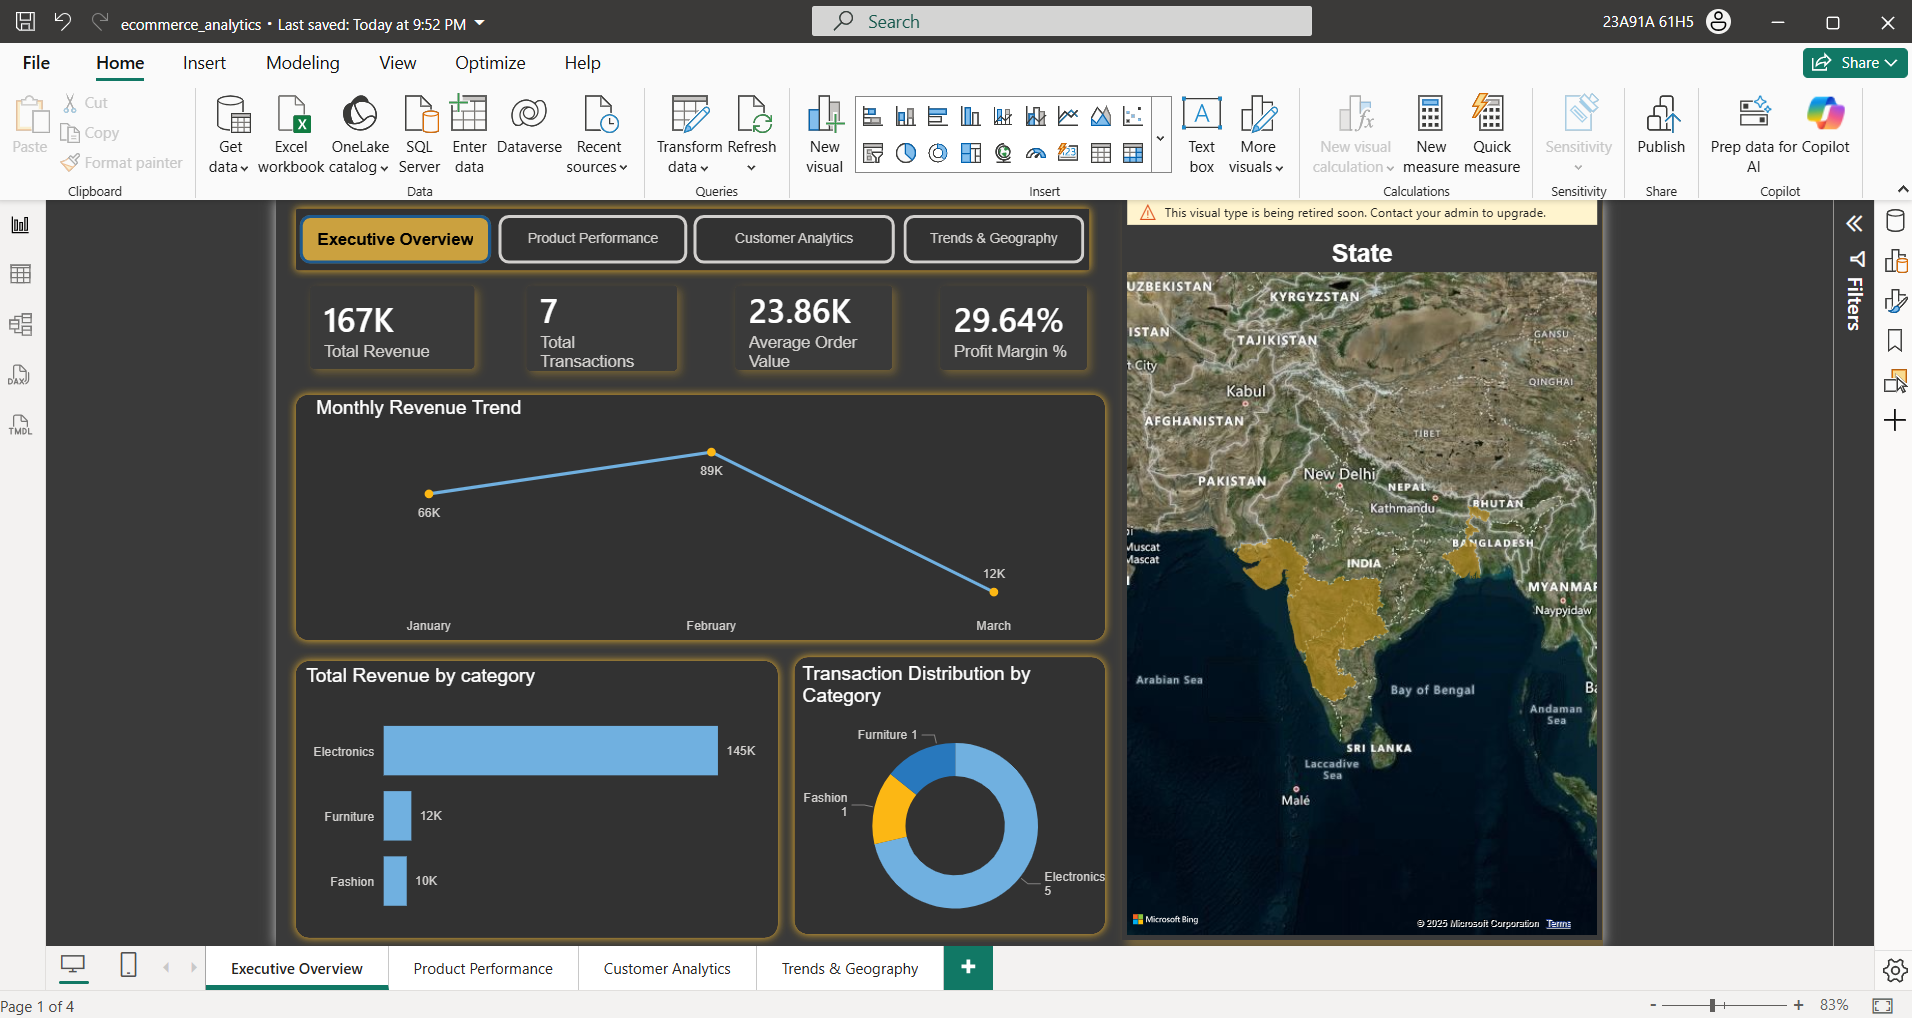

Layout of this report page (visuals, bound fields, positions):
{"tool":"powerbi","page":{"name":"Executive Overview","canvas":[1280,720],"ordinal":0},"visuals":[{"type":"shape","box":[11.2,0,782.5,76.2],"z":0,"group":"g4"},{"type":"cardVisual","fields":{"Data":["Measuress.Total Revenue"]},"box":[0,50,225,147.5],"z":0},{"type":"shape","box":[10.9,436.7,481.7,283.5],"z":0,"group":"g3"},{"type":"actionButton","box":[214.8,14.4,182.2,46.9],"z":1000,"group":"g4"},{"type":"cardVisual","fields":{"Data":["Measuress.Total Transactions"]},"box":[208.7,49.5,212.3,149.6],"z":1000},{"type":"shape","box":[492.2,433.1,316.1,283.5],"z":1000,"group":"g2"},{"type":"actionButton","box":[403.1,14.4,194.3,46.9],"z":2000,"group":"g4"},{"type":"cardVisual","fields":{"Data":["Measuress.Average Order Value"]},"box":[410.2,49.5,218.4,148.4],"z":2000},{"type":"shape","box":[10.9,179.8,797.5,253.4],"z":2000,"group":"g1"},{"type":"actionButton","box":[605.7,14.4,174.6,46.9],"z":3000,"group":"g4"},{"type":"cardVisual","fields":{"Data":["Measuress.Profit Margin %"]},"box":[608,49.5,208.7,148.4],"z":3000},{"type":"filledMap","title":"State","fields":{"Category":["dim_customers.state"]},"box":[816.6,0,463.1,714.2],"z":4000},{"type":"actionButton","box":[23.7,14.7,184.8,46.9],"z":4000,"group":"g4"},{"type":"group","id":"g1","title":"Group 1","box":[10.9,179.8,797.5,253.4],"z":5000},{"type":"group","id":"g2","title":"Group 2","box":[492.2,433.1,316.1,287.1],"z":6000},{"type":"lineChart","title":"Monthly Revenue Trend","fields":{"Category":["dim_date.month_name"],"Y":["Measuress.Total Revenue"]},"box":[34,189.9,773.3,238.3],"z":7000,"group":"g1"},{"type":"group","id":"g3","title":"Group 3","box":[10.9,436.7,481.4,283.5],"z":7000},{"type":"clusteredBarChart","fields":{"Category":["dim_products.category"],"Y":["Measuress.Total Revenue"]},"box":[23.6,448.6,451.4,265.4],"z":8000,"group":"g3"},{"type":"group","id":"g4","title":"Group 4","box":[11.2,0,782.5,76.2],"z":8004},{"type":"donutChart","title":"Transaction Distribution by Category","fields":{"Category":["dim_products.category"],"Y":["Measuress.Total Transactions"]},"box":[502.8,446.1,305.2,273.9],"z":9000,"group":"g2"}]}

Visuals, with their boxes on the page's 1280x720 design canvas (x1, y1, x2, y2). These are canvas units, not pixel positions in the 1912x1018 screenshot, which may show the page scaled, cropped or inside an application window:
shape: <region>11, 0, 794, 76</region>
cardVisual - Measuress.Total Revenue: <region>0, 50, 225, 198</region>
shape: <region>11, 437, 493, 720</region>
actionButton: <region>215, 14, 397, 61</region>
cardVisual - Measuress.Total Transactions: <region>209, 50, 421, 199</region>
shape: <region>492, 433, 808, 717</region>
actionButton: <region>403, 14, 597, 61</region>
cardVisual - Measuress.Average Order Value: <region>410, 50, 629, 198</region>
shape: <region>11, 180, 808, 433</region>
actionButton: <region>606, 14, 780, 61</region>
cardVisual - Measuress.Profit Margin %: <region>608, 50, 817, 198</region>
"State" filledMap: <region>817, 0, 1280, 714</region>
actionButton: <region>24, 15, 208, 62</region>
"Group 1" group: <region>11, 180, 808, 433</region>
"Group 2" group: <region>492, 433, 808, 720</region>
"Monthly Revenue Trend" lineChart: <region>34, 190, 807, 428</region>
"Group 3" group: <region>11, 437, 492, 720</region>
clusteredBarChart - dim_products.category x Measuress.Total Revenue: <region>24, 449, 475, 714</region>
"Group 4" group: <region>11, 0, 794, 76</region>
"Transaction Distribution by Category" donutChart: <region>503, 446, 808, 720</region>
